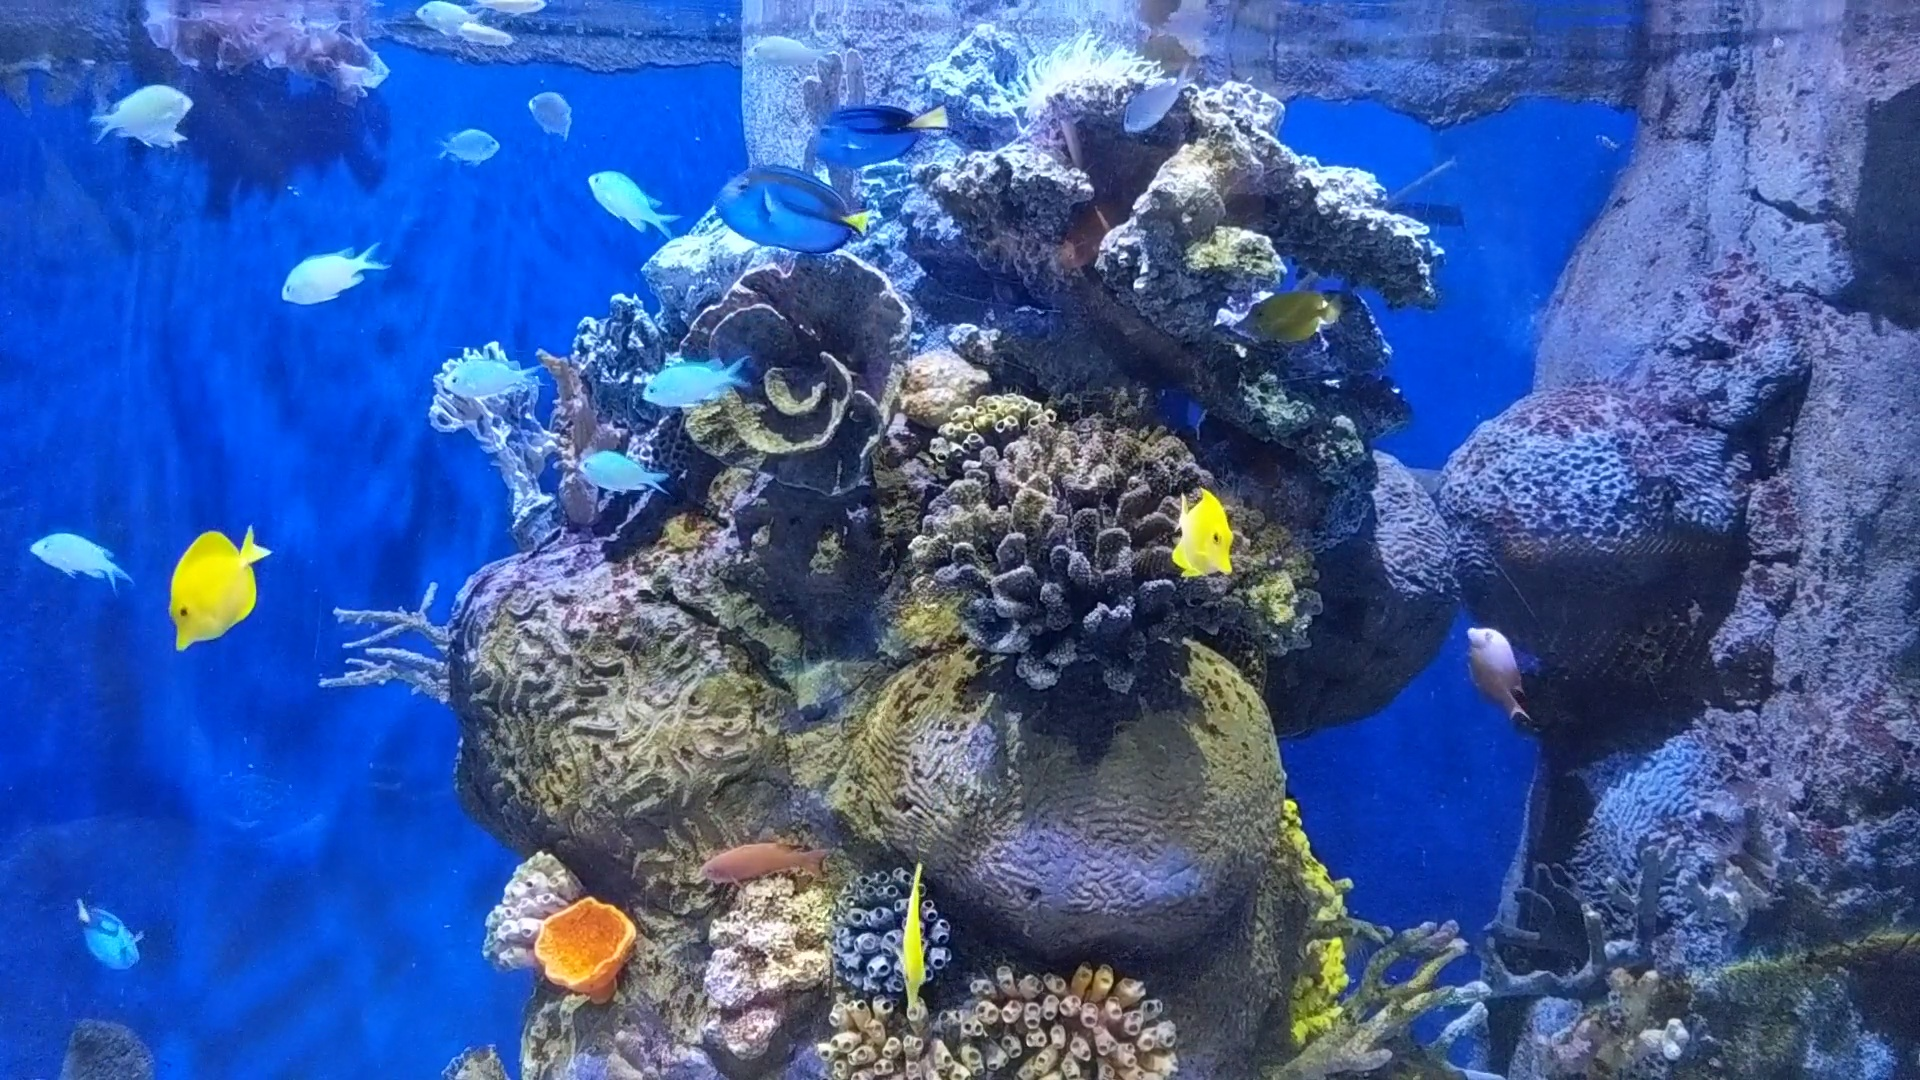blue tang surgeonfish: (713, 152, 881, 257), (799, 79, 963, 185), (51, 891, 146, 975)
damselfish: (248, 222, 396, 314), (83, 57, 208, 157), (22, 514, 133, 600), (572, 153, 688, 233), (425, 338, 538, 411), (568, 433, 680, 506), (1089, 59, 1199, 135), (626, 352, 756, 415), (426, 105, 506, 179), (516, 76, 584, 146)
pink fish: (1455, 607, 1544, 727)
saddle butterfly fish: (137, 516, 284, 647), (1147, 477, 1246, 593), (1236, 274, 1350, 348)
